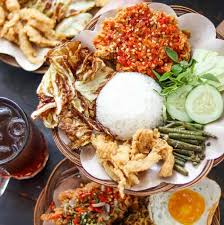ayam_geprek: (92, 6, 198, 81)
